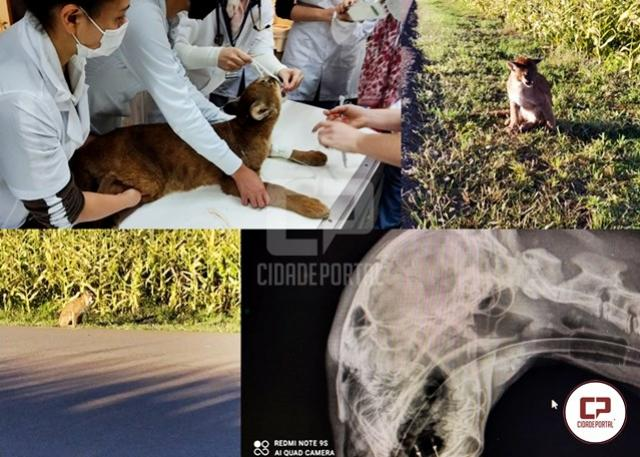OncaParda: (82, 73, 337, 221), (498, 51, 564, 136)
